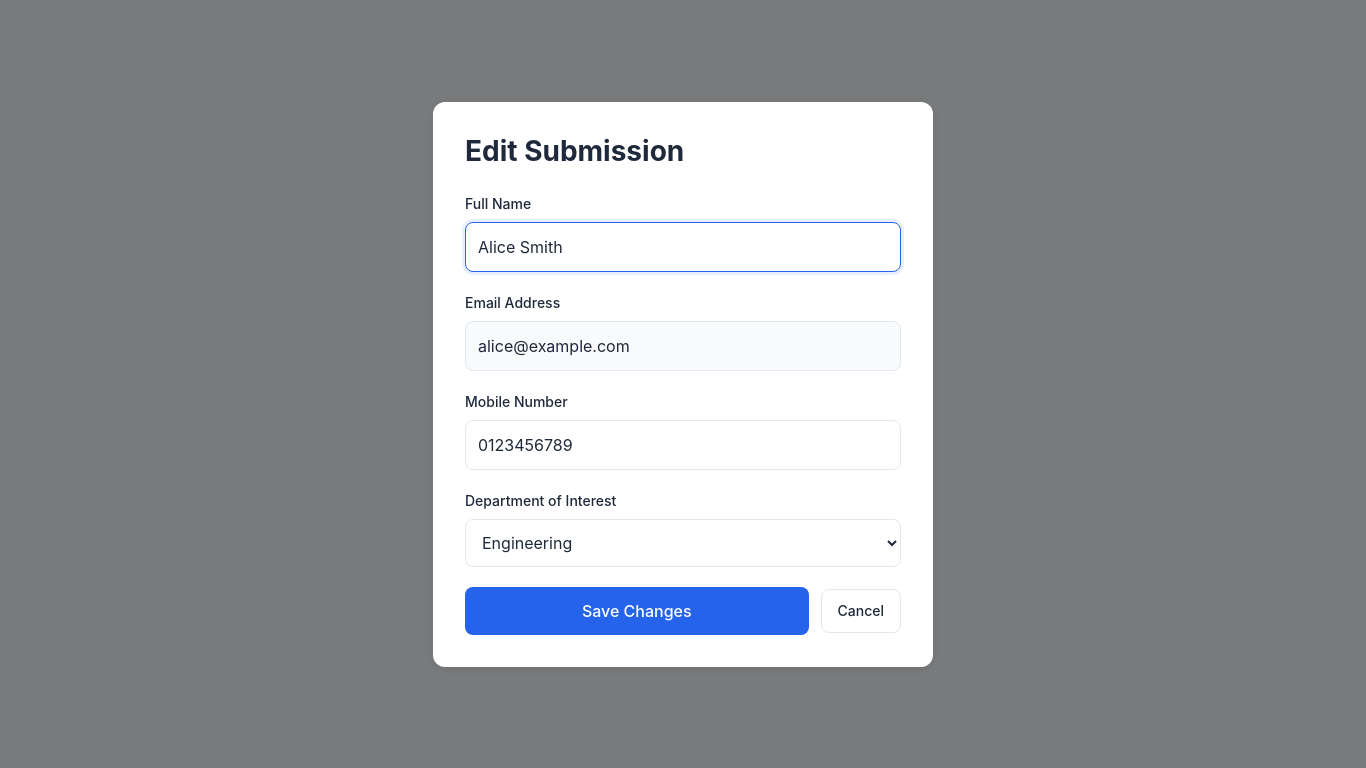
it: EditSubmission › surfaces post-save requery errors without discarding entered edits
Step 1. Replace the text in the field labelled "Full Name" with "Saved Name" → (683, 246), box [465,222,901,272]
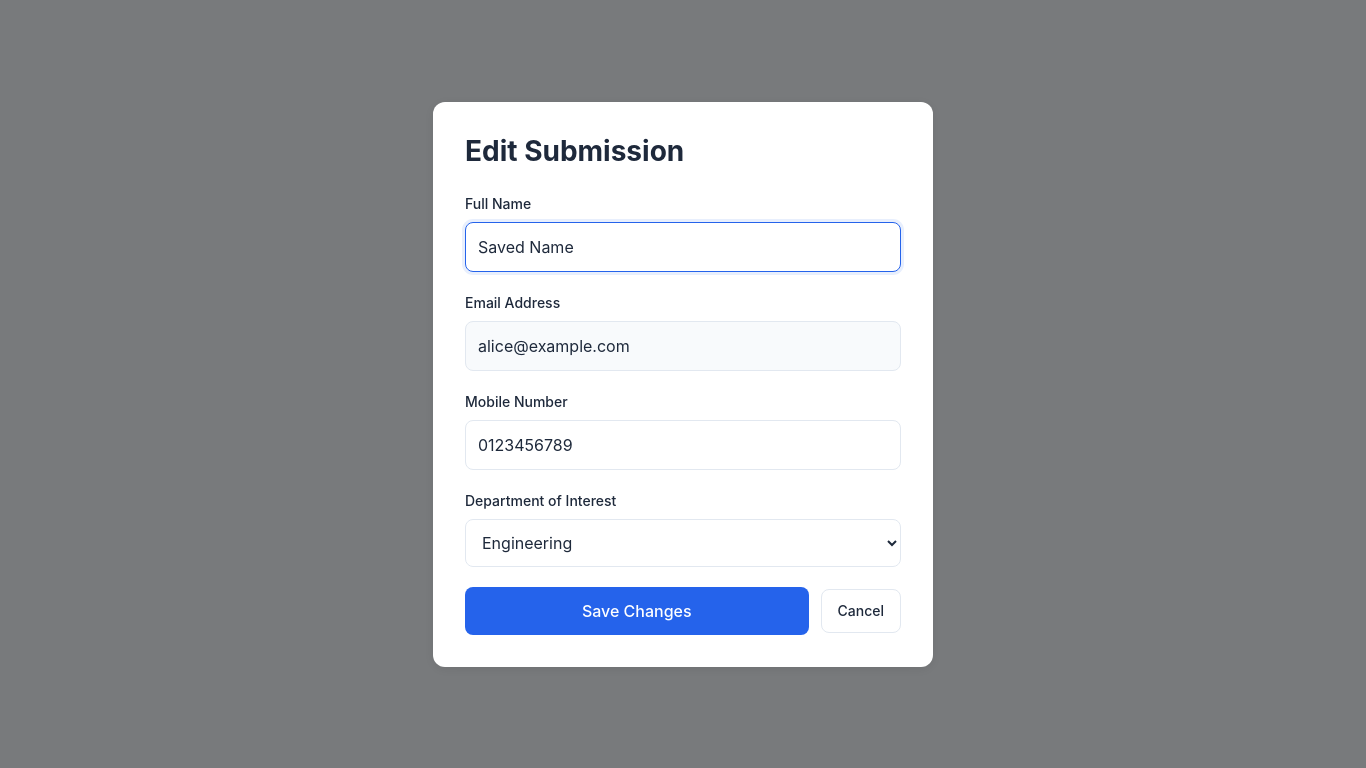
Step 2. Click the button "Save Changes" → (637, 610), box [465,586,808,634]
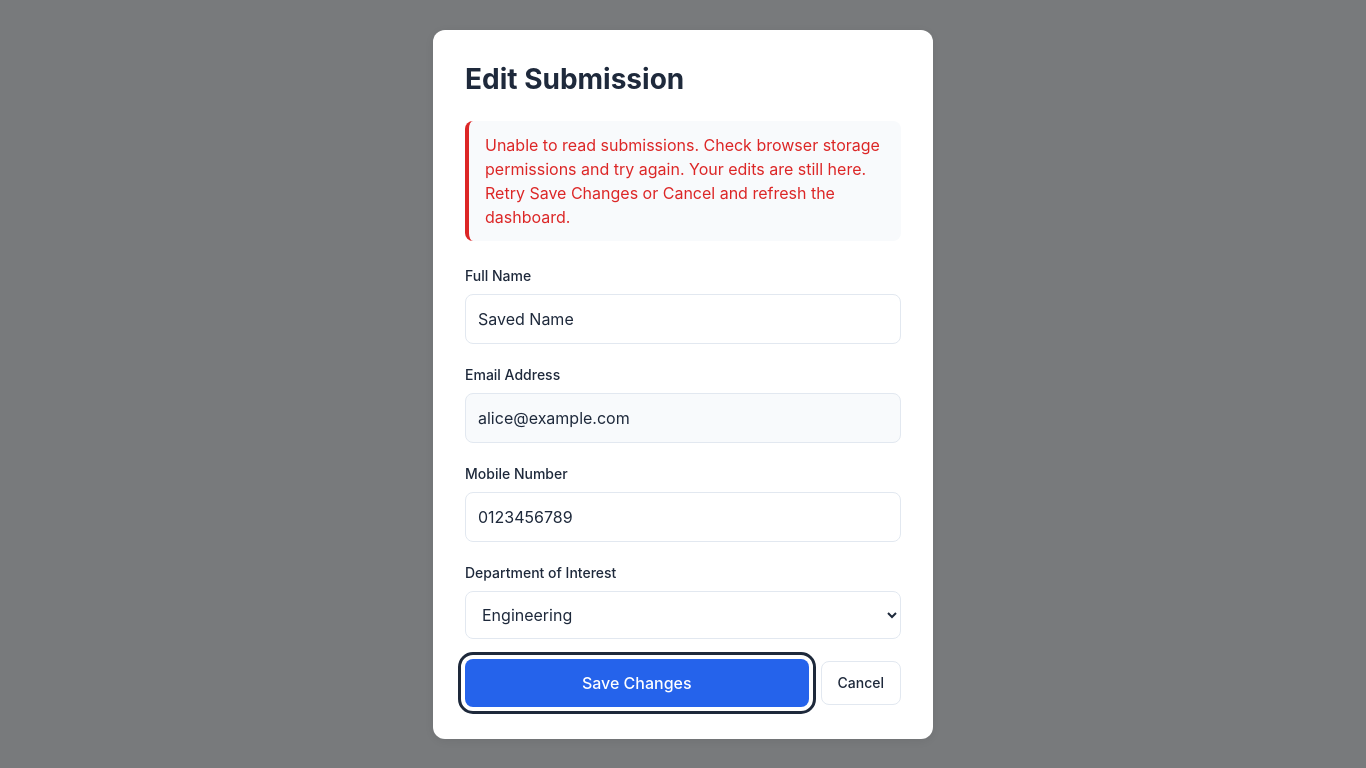
Result: the message shows "Unable to read submissions." at [485,134,880,226]
